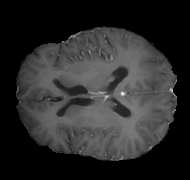Edema: (106, 75, 140, 104)
Necrosis: (115, 78, 141, 103)
